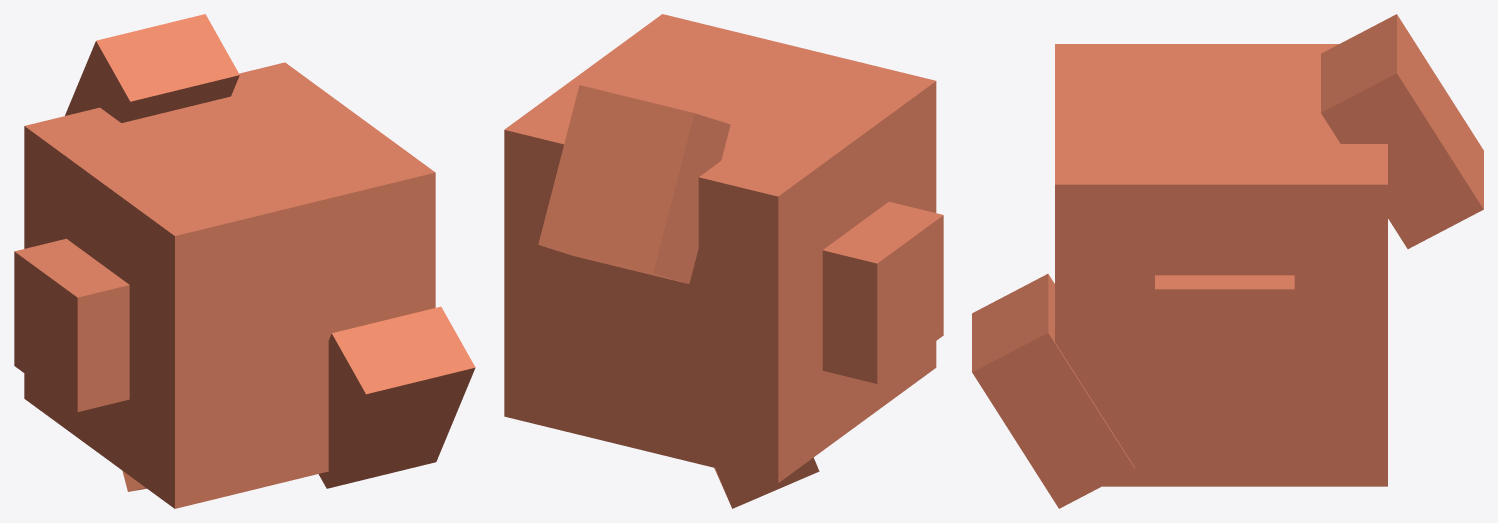
File: planet_cuboid_peach.glb
3 renders of one model, left to right at view 1: azimuth 30°, elevation 25°; view 2: azimuth 150°, elevation 25°; view 3: azimuth 270°, elevation 25°, orthographic. The views are drawn at different scales.
Parts seen in each view (by area): view 1: block (×4); view 2: block (×4); view 3: block (×4).
Part boxes in pixels (left/top/right/bottom): block (×4): left=14, top=14, right=475, bottom=508; block (×4): left=504, top=14, right=943, bottom=508; block (×4): left=972, top=14, right=1483, bottom=508.
Size of the model in its own units: 1.3 by 1.52 by 1.54.
